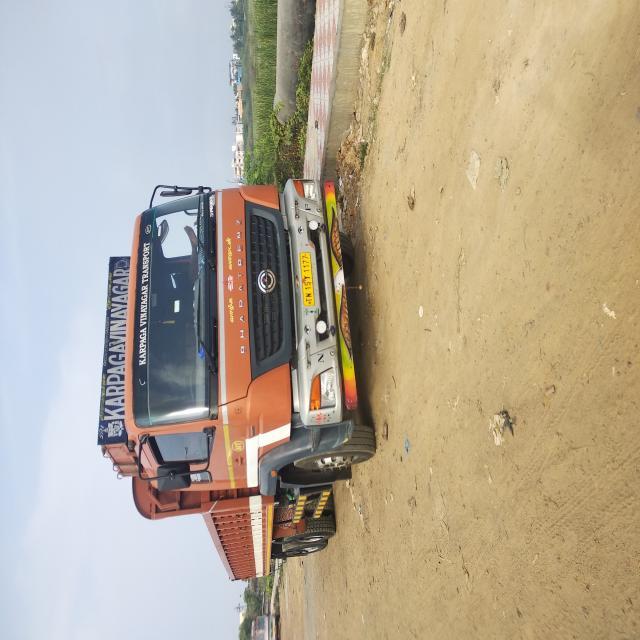Truck: (43, 125, 348, 504)
